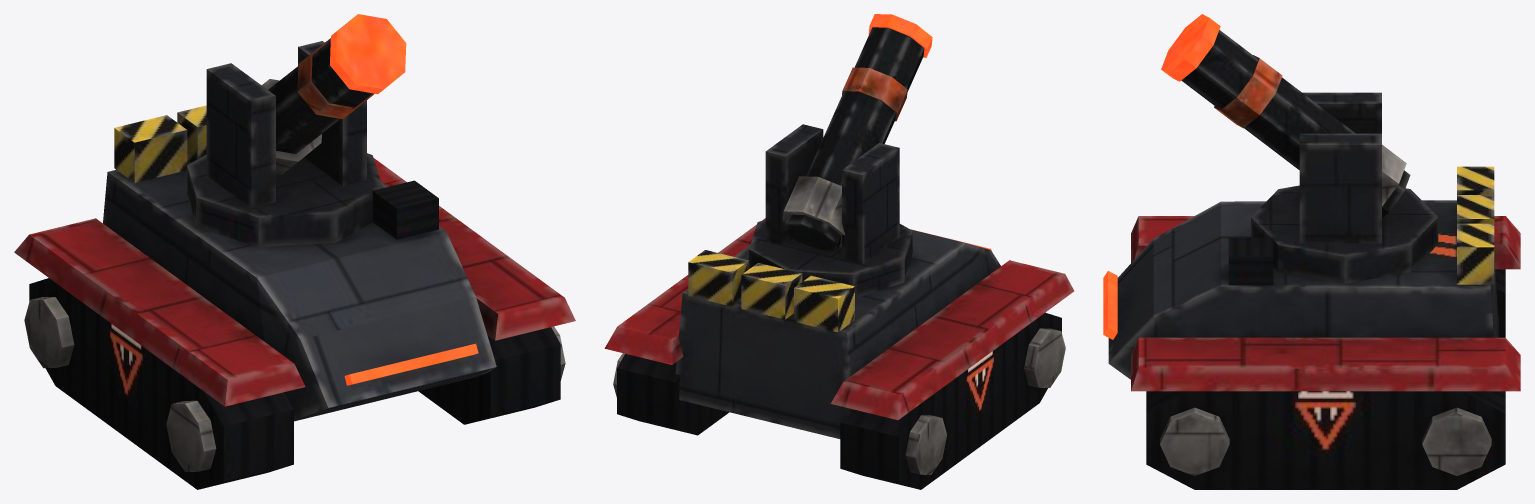
File: u_mortar1_e.glb
The picture shows the model from 3 angles, left to right: view 1: azimuth 30°, elevation 25°; view 2: azimuth 150°, elevation 25°; view 3: azimuth 270°, elevation 25°; orthographic projection. The views are drawn at different scales.
Visible parts, largest first — view 1: u_mortar1_e; view 2: u_mortar1_e; view 3: u_mortar1_e.
Part boxes in pixels (x1,y1,x2,y2): u_mortar1_e: (14,14,575,489); u_mortar1_e: (604,14,1074,489); u_mortar1_e: (1103,14,1520,489).
Size of the model in its own units: 1.03 by 1.17 by 1.11.
Materials: 1 (1 with a texture image).
